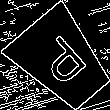P_SE: (30, 30, 93, 92)
